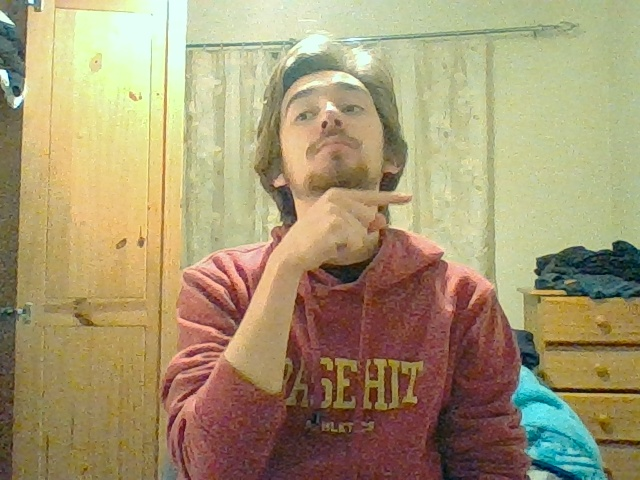son: (312, 186, 413, 257)
